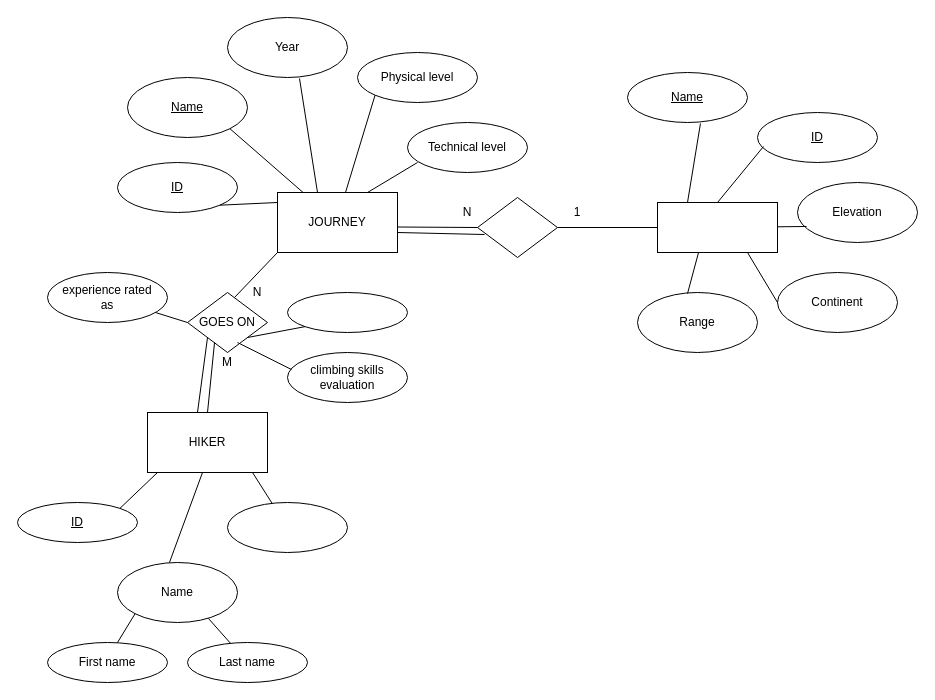
Image size: 935x700. Some labels were removed from this diagram. The box of each missing label's shape, as (x1, y1, x2, y2) in pixels:
DOB: (226, 502, 348, 552)
MOUNTAIN: (656, 202, 778, 252)
physical fitness evaluation: (286, 292, 408, 332)
TO: (476, 196, 558, 258)
